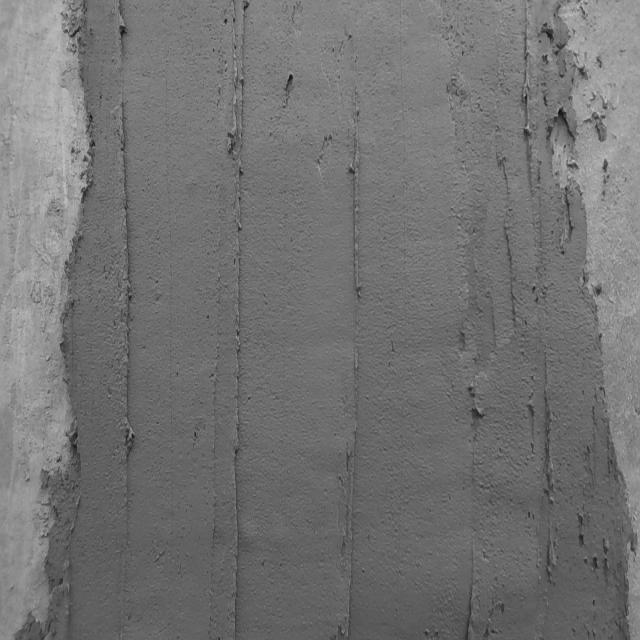trowels marks: (337, 87, 367, 640), (110, 2, 136, 640), (225, 4, 247, 640), (204, 184, 224, 640)
